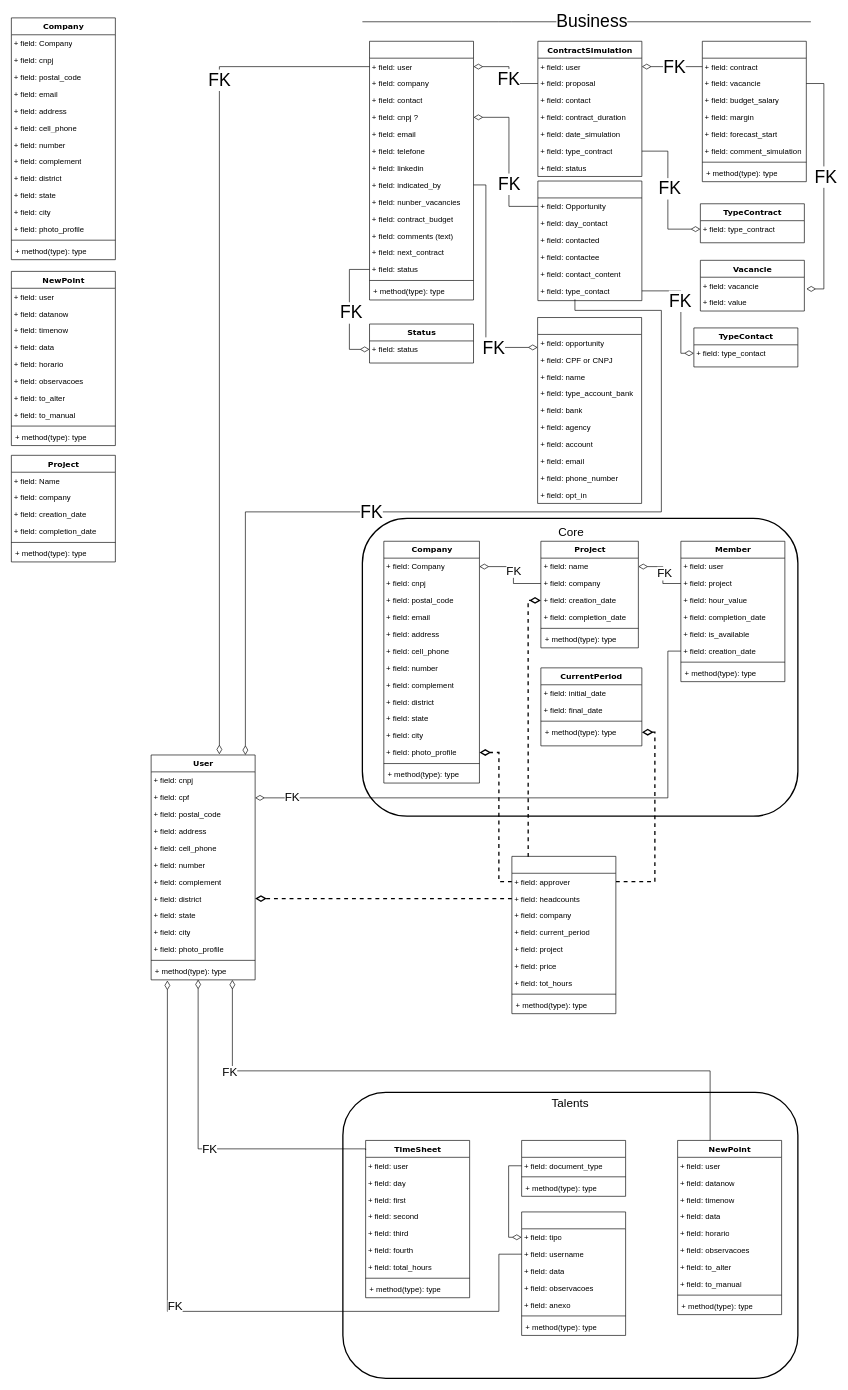
Some shapes in this 848 by 1390 pixel diagram are drawn without their labels. Each missing label, with the box of its shape:
Approvals: (511, 856, 616, 1014)
Documents: (521, 1211, 626, 1335)
DocumentTypes: (521, 1140, 626, 1196)
Indicated: (537, 317, 642, 503)
Opportunity: (369, 41, 474, 300)
Schedule: (537, 180, 642, 301)
VacancieSimulation: (702, 41, 806, 182)
